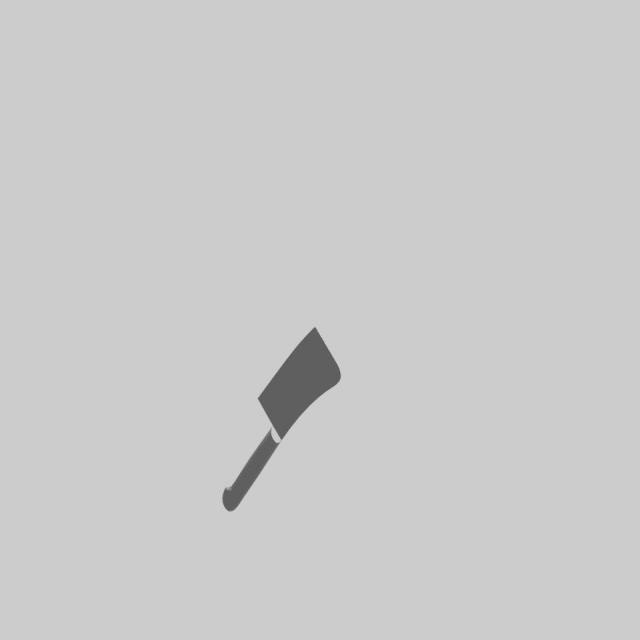knife: (222, 426, 281, 510)
